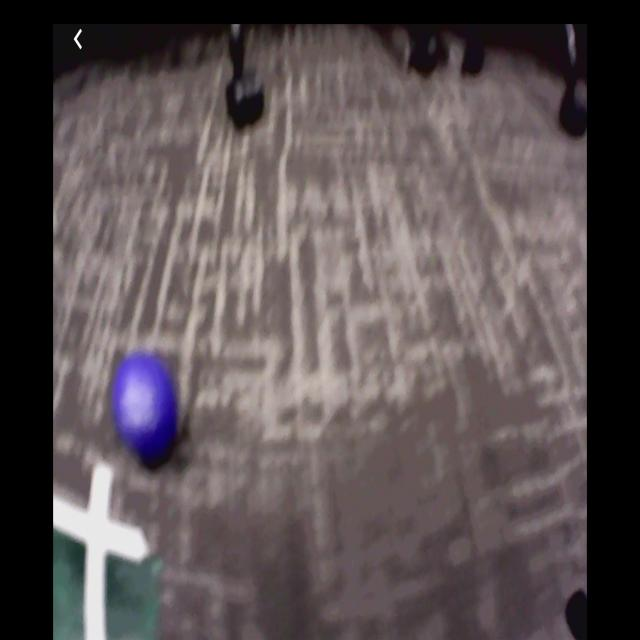ball: (115, 354, 177, 460)
